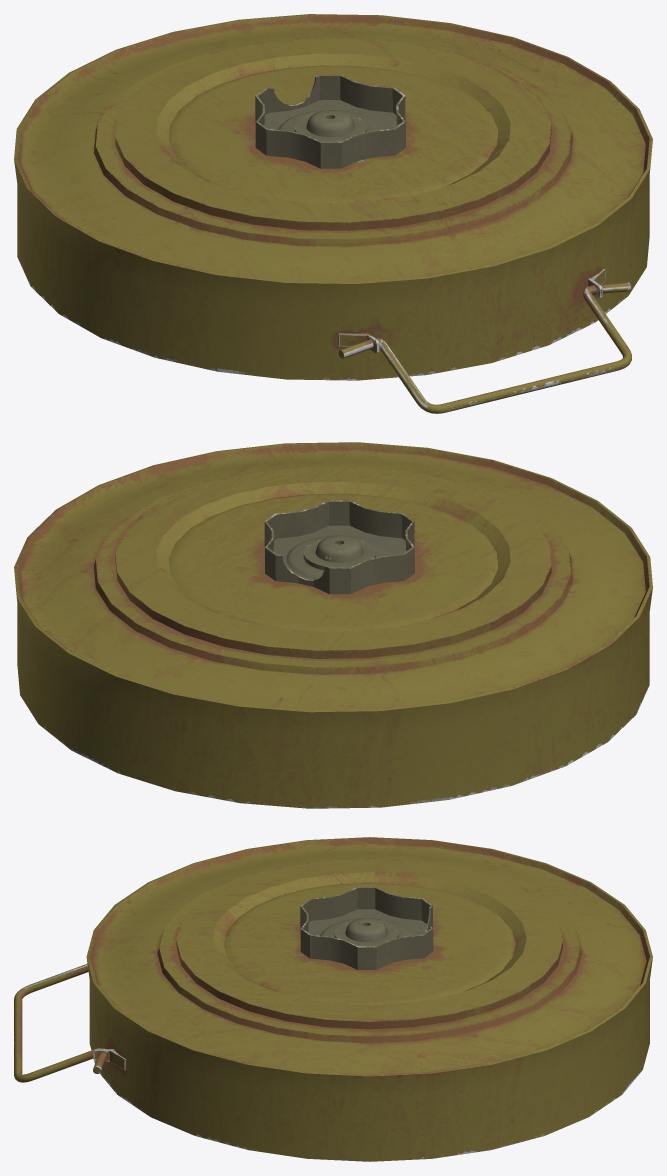
3 views of the same model, one above another, from view 1: azimuth 30°, elevation 25°; view 2: azimuth 150°, elevation 25°; view 3: azimuth 270°, elevation 25° (orthographic). The views are drawn at different scales.
Visible parts, largest first — view 1: Base, Fuse, Handle, Hinge; view 2: Base, Fuse; view 3: Base, Fuse, Handle.
Boxes of the visible parts, x1,y1,x2,y2 form: Base: (14,14,652,380); Fuse: (255,74,405,168); Handle: (338,282,631,413); Hinge: (338,268,605,353); Base: (14,442,652,808); Fuse: (264,500,414,594); Base: (86,837,652,1161); Fuse: (300,887,433,969); Handle: (14,963,106,1082).
Bounding box in the file's own units: 0.3083 × 0.0747 × 0.3478.
2 materials, 2 textured.
